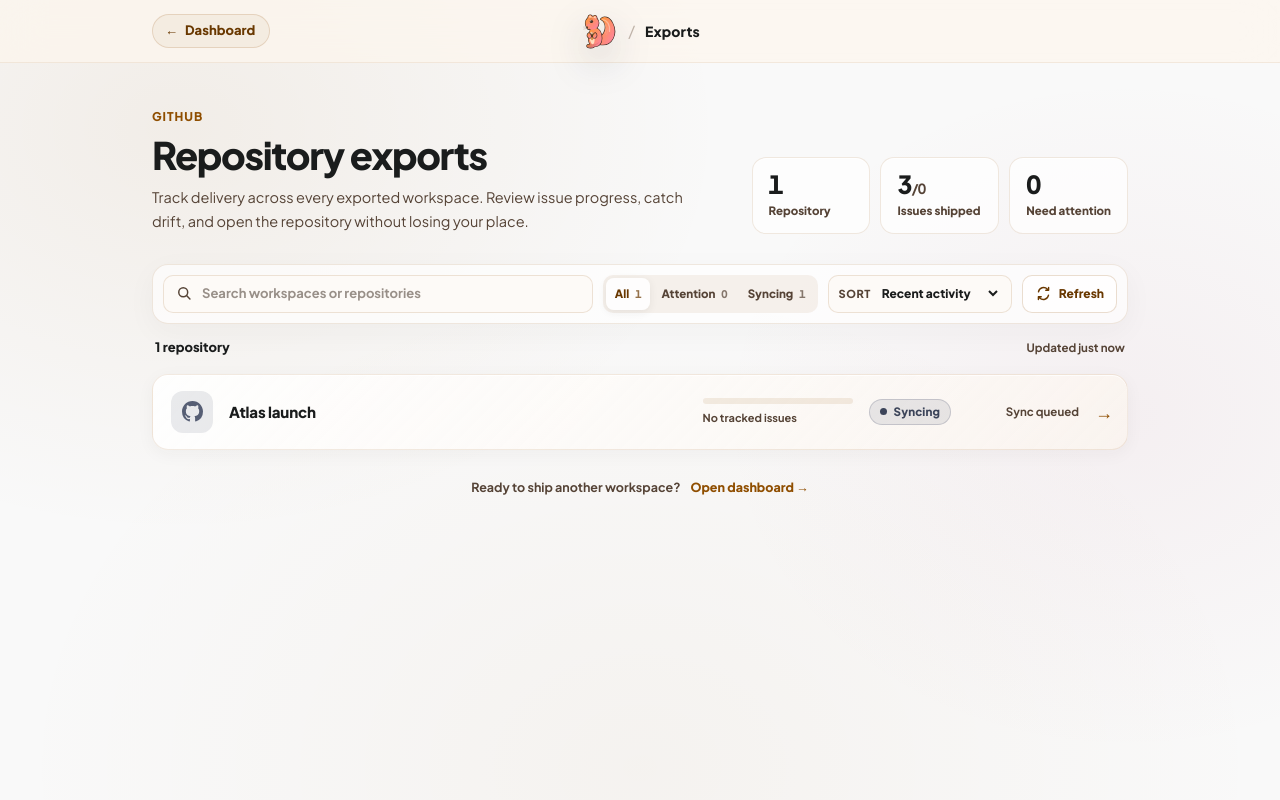
Test: GitHubHub › covers queued and untracked export activity and clears an empty filter
The width and height of the screenshot is (1280, 800).
Expected: the text "Sync queued" is shown, [1006,404,1079,419]
Expected: the text "No tracked issues" is shown, [703,411,797,424]
Type "does-not-exist" into the search field named "Search repositories" at (391, 294), box [202,284,580,304]
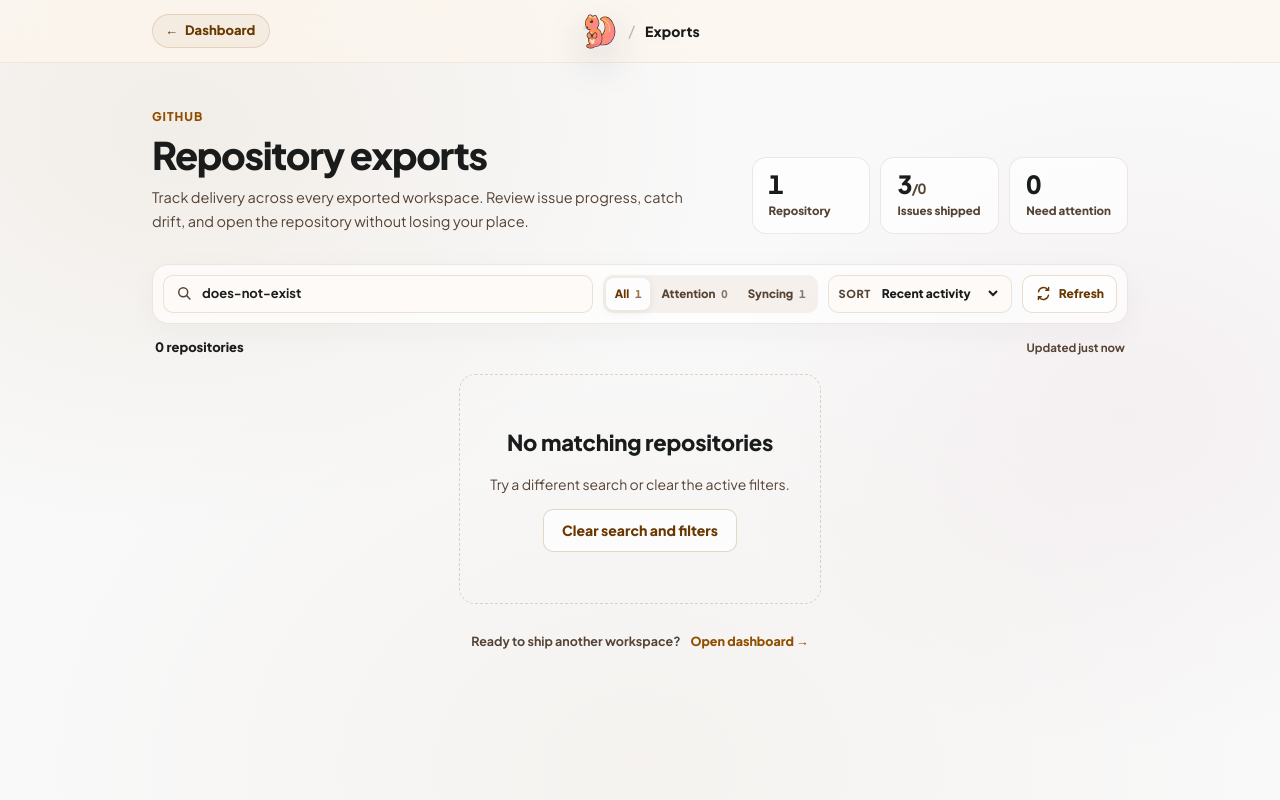
Expected: the heading "No matching repositories" is shown, [507,426,773,459]
Click the button "Clear search and filters" at (640, 531), box [543,509,737,552]
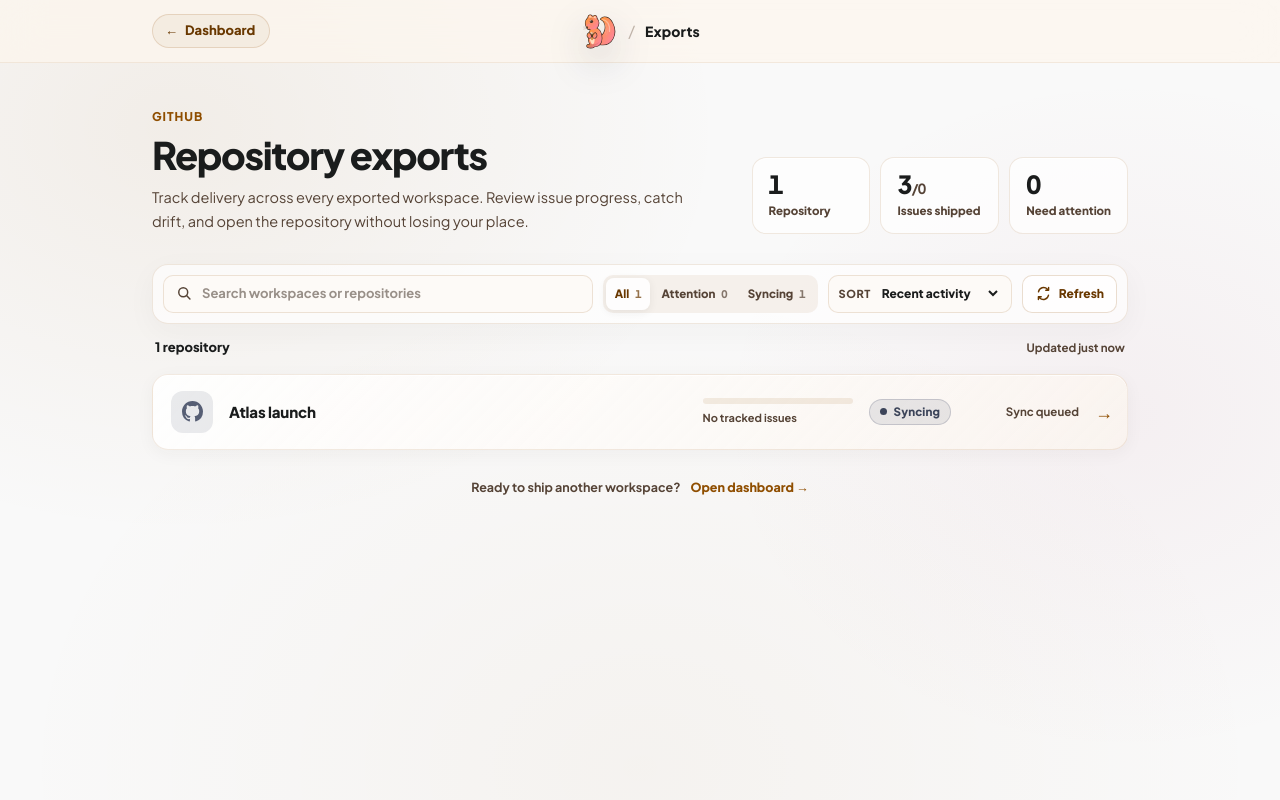
Expected: the text "Sync queued" is shown, [1006,404,1079,419]
